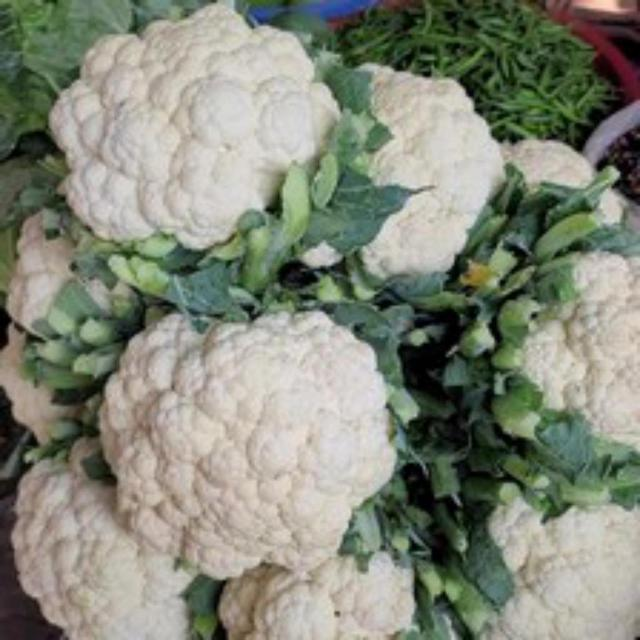cauliflower: (43, 0, 343, 262)
